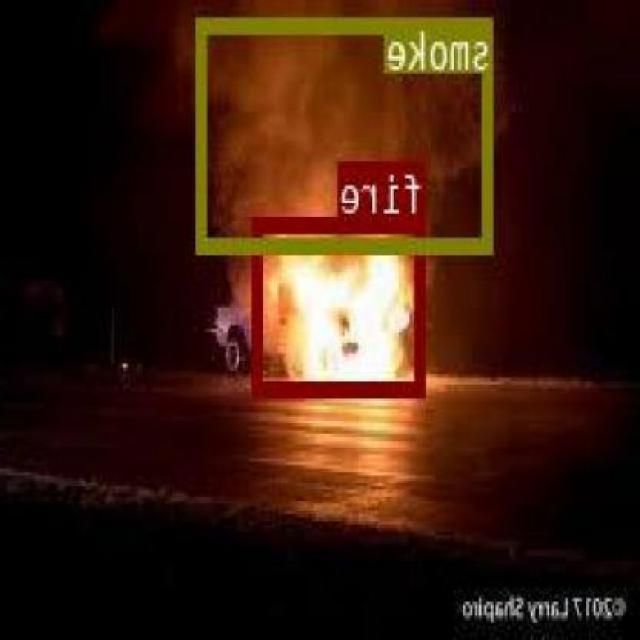Fire: (254, 214, 428, 393)
Smoke: (198, 15, 496, 252)
